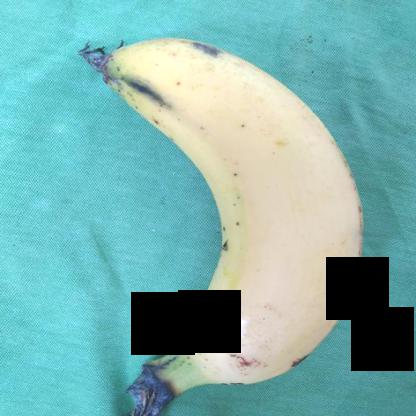freshripe: (89, 31, 372, 391)
